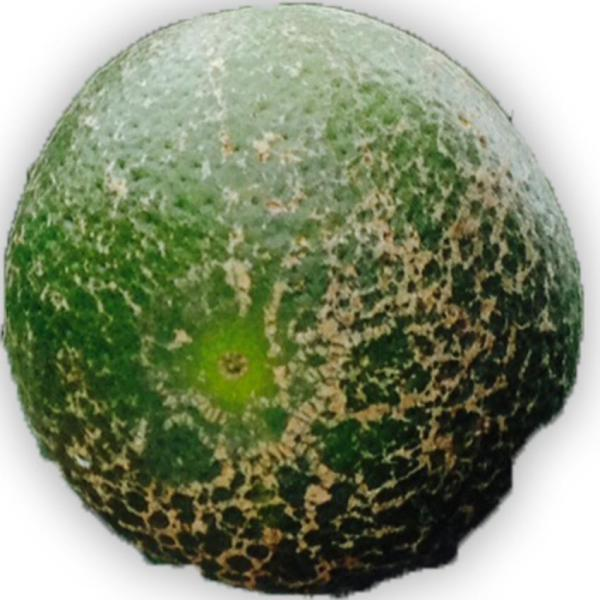Scab: (0, 0, 592, 599)
